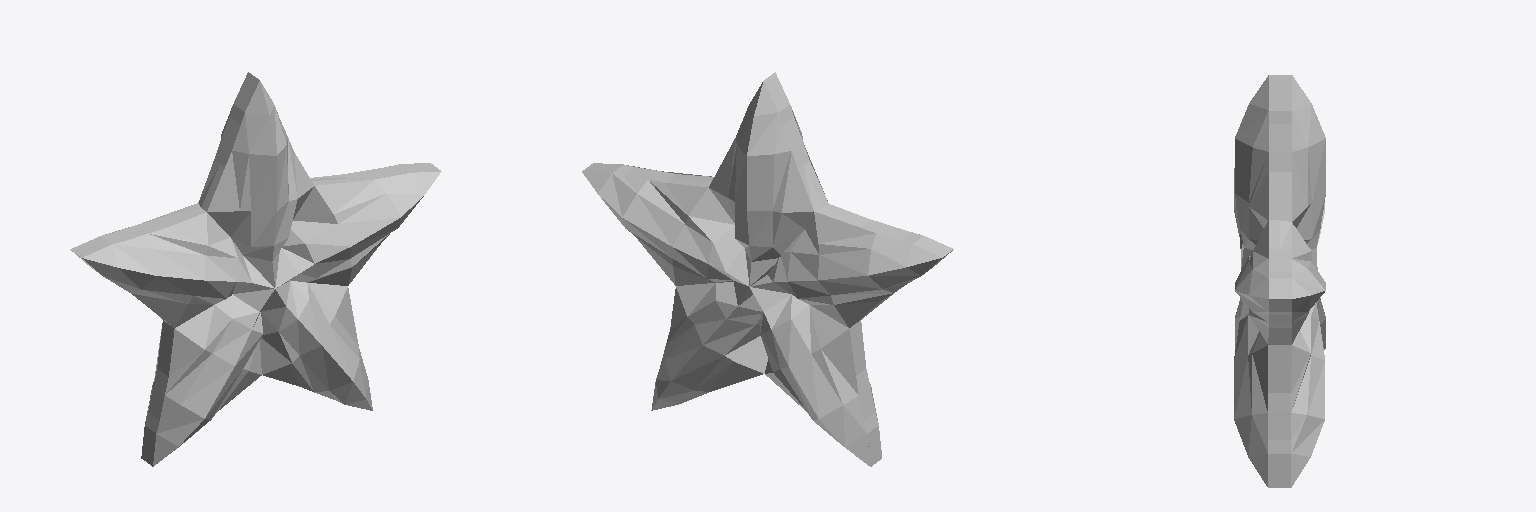
File: Estrella_normal.obj
3 views of the same model, side by side, from view 1: azimuth 30°, elevation 25°; view 2: azimuth 150°, elevation 25°; view 3: azimuth 270°, elevation 25° (orthographic).
Visible parts, largest first — view 1: pCube73; view 2: pCube73; view 3: pCube73.
Boxes of the visible parts, x1,y1,x2,y2 form: pCube73: [70, 72, 441, 466]; pCube73: [582, 72, 953, 466]; pCube73: [1234, 75, 1325, 487].
Bounding box in the file's own units: 1.08 × 1.03 × 0.2384.